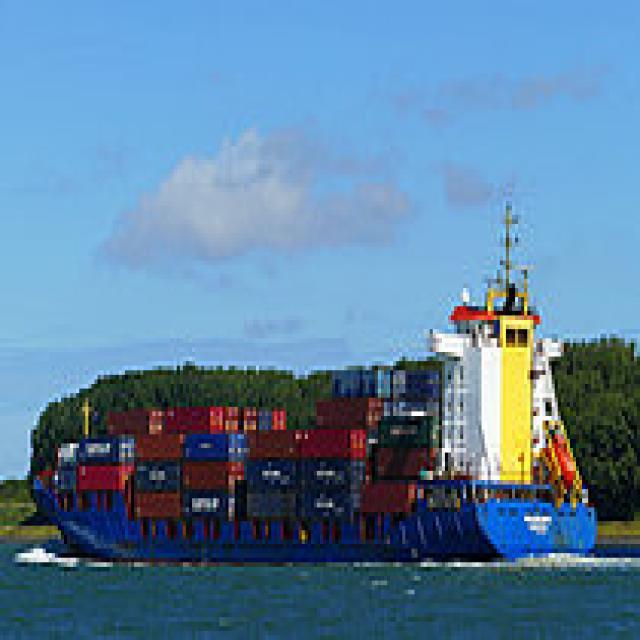Cargo: (25, 197, 598, 562)
